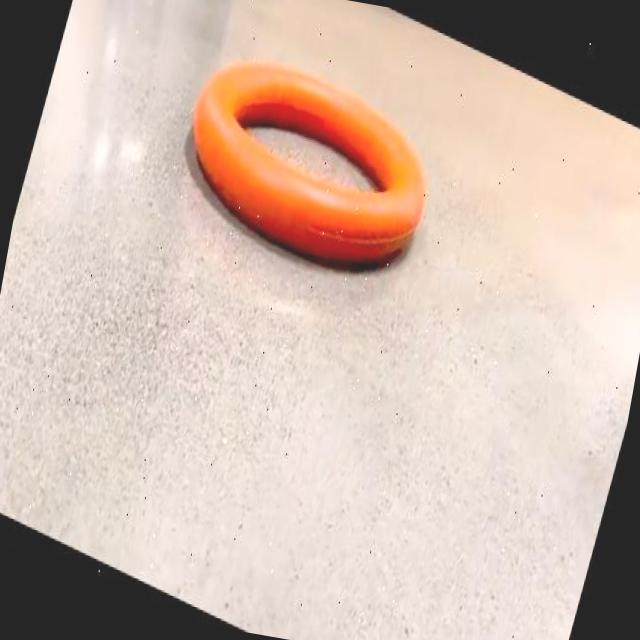note: (194, 62, 425, 261)
